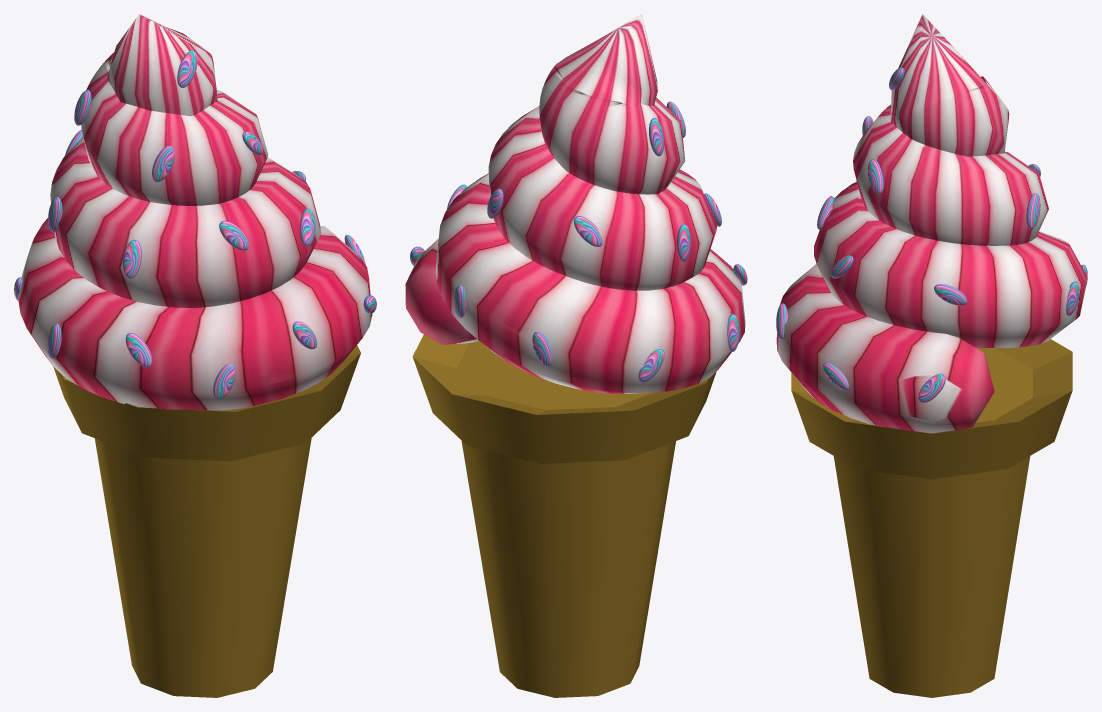
The model's file is Helado.fbx.
The picture shows the model from 3 angles, left to right: view 1: azimuth 30°, elevation 25°; view 2: azimuth 150°, elevation 25°; view 3: azimuth 270°, elevation 25°; orthographic projection. The views are drawn at different scales.
Parts seen in each view (by area): view 1: Helix003; view 2: Helix003; view 3: Helix003.
Boxes of the visible parts, bbox=[...] form: Helix003: bbox=[14, 14, 376, 697]; Helix003: bbox=[405, 14, 747, 697]; Helix003: bbox=[776, 14, 1087, 697].
Size of the model in its own units: 21.34 by 42.95 by 19.4.
3 materials, 2 textured.
